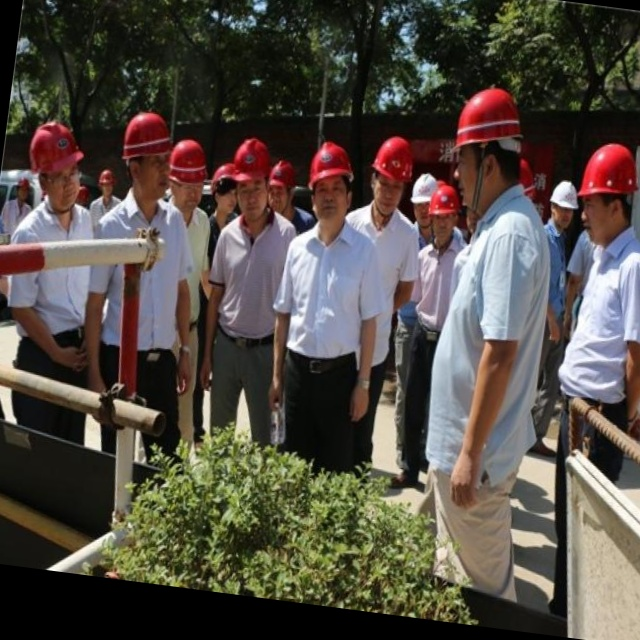Con_Casco: (305, 139, 361, 228), (225, 134, 276, 223)
Sin_Chaleco: (421, 186, 562, 455), (271, 220, 386, 375)
